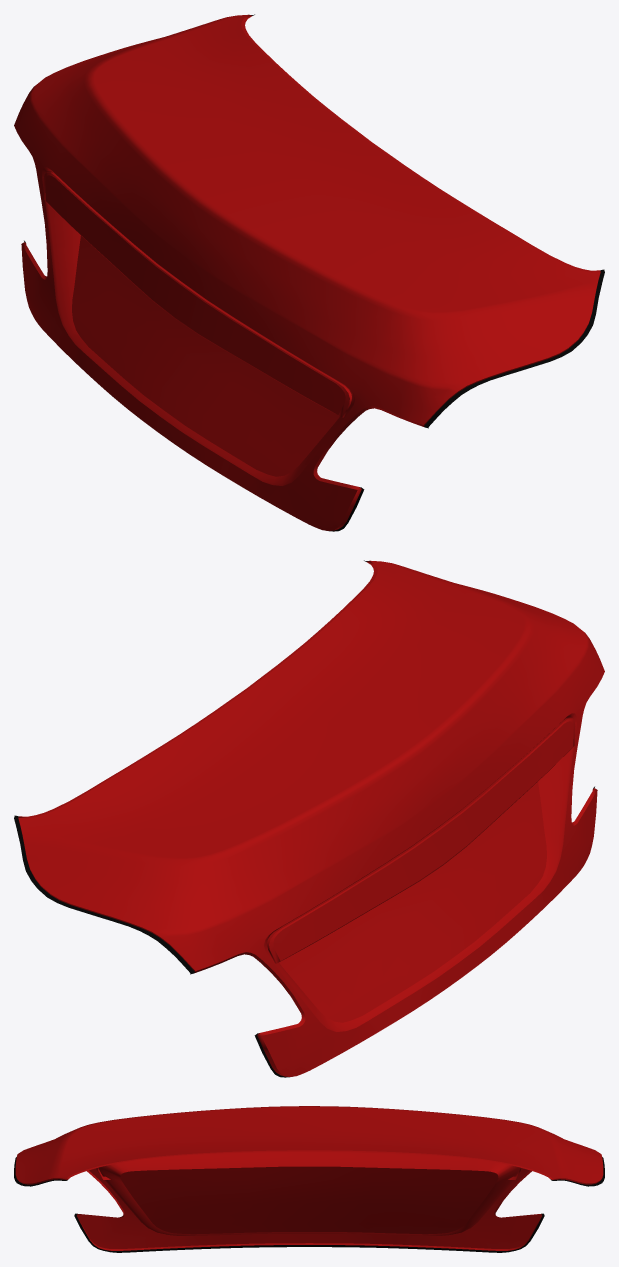
3 renders of one model, top to bottom at view 1: azimuth 30°, elevation 25°; view 2: azimuth 150°, elevation 25°; view 3: azimuth 270°, elevation 25°, orthographic. The views are drawn at different scales.
Visible parts, largest first — view 1: Y175_18_461B_C_1_DaS_Y175_18_461B_C, Y175_18_461B_C_1_DaS_Y175_18_461B_C_E, Y175_18_461B_C_Y175_18_461B_C_3_D; view 2: Y175_18_461B_C_1_DaS_Y175_18_461B_C, Y175_18_461B_C_1_DaS_Y175_18_461B_C_E, Y175_18_461B_C_Y175_18_461B_C_3_D; view 3: Y175_18_461B_C_1_DaS_Y175_18_461B_C, Y175_18_461B_C_1_DaS_Y175_18_461B_C_E, Y175_18_461B_C_Y175_18_461B_C_3_D.
Part boxes in pixels (left/top/right/bottom): Y175_18_461B_C_1_DaS_Y175_18_461B_C: left=14, top=14, right=600, bottom=530; Y175_18_461B_C_1_DaS_Y175_18_461B_C_E: left=21, top=15, right=600, bottom=530; Y175_18_461B_C_Y175_18_461B_C_3_D: left=24, top=14, right=604, bottom=531; Y175_18_461B_C_1_DaS_Y175_18_461B_C: left=18, top=560, right=604, bottom=1076; Y175_18_461B_C_1_DaS_Y175_18_461B_C_E: left=18, top=561, right=597, bottom=1076; Y175_18_461B_C_Y175_18_461B_C_3_D: left=14, top=560, right=594, bottom=1077; Y175_18_461B_C_1_DaS_Y175_18_461B_C: left=15, top=1106, right=603, bottom=1248; Y175_18_461B_C_1_DaS_Y175_18_461B_C_E: left=17, top=1150, right=601, bottom=1250; Y175_18_461B_C_Y175_18_461B_C_3_D: left=14, top=1157, right=604, bottom=1252.
Size of the model in its own units: 57.01 by 48.18 by 154.
